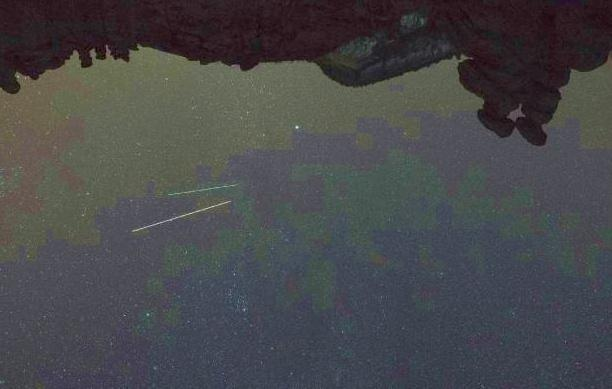meteorite: (129, 199, 223, 231), (147, 180, 240, 199)
